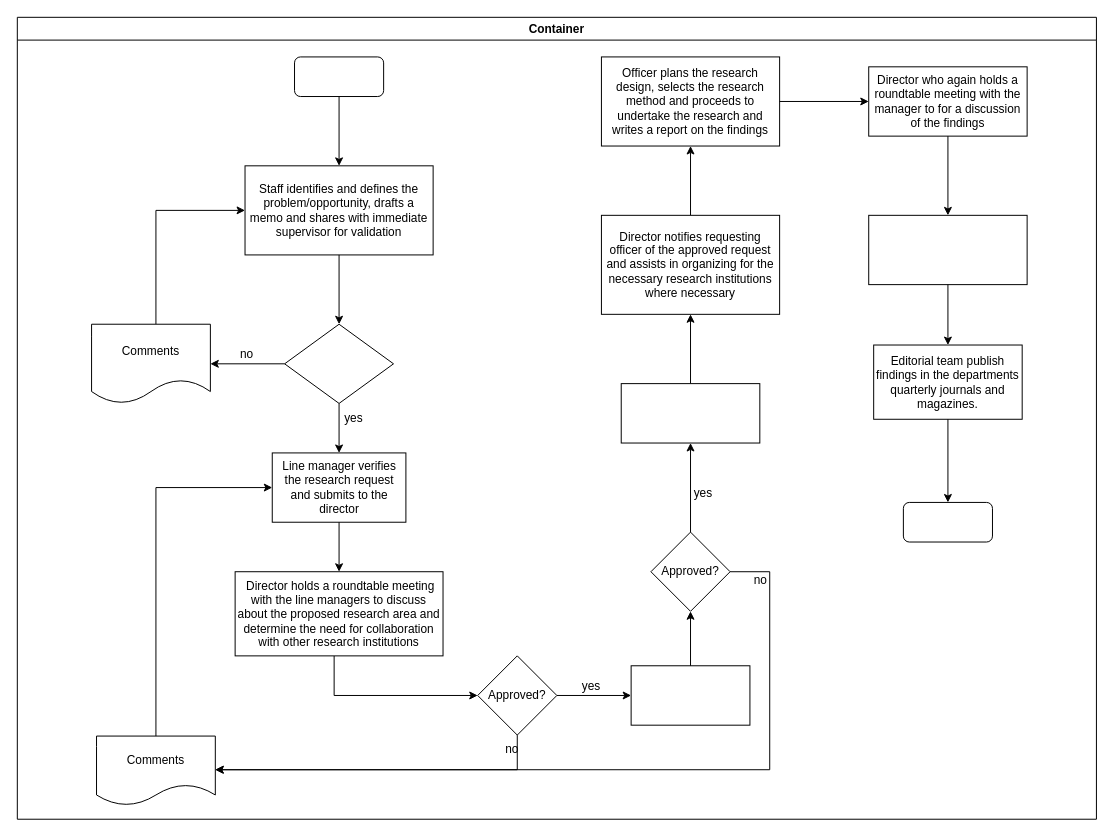
The diagram is 1114 pixels wide and 837 high, and some of its shapes have lost their labels. Each missing label, with the box of its shape:
CEO forwards to MFA for facilitation and cc to drirector: (620, 383, 760, 443)
Director and manager validate and send report to CEO: (868, 214, 1027, 285)
End: (902, 501, 992, 542)
Research report is submitted to CEO: (630, 665, 750, 725)
Start: (294, 56, 384, 97)
Supervisor validates?: (284, 323, 394, 403)
